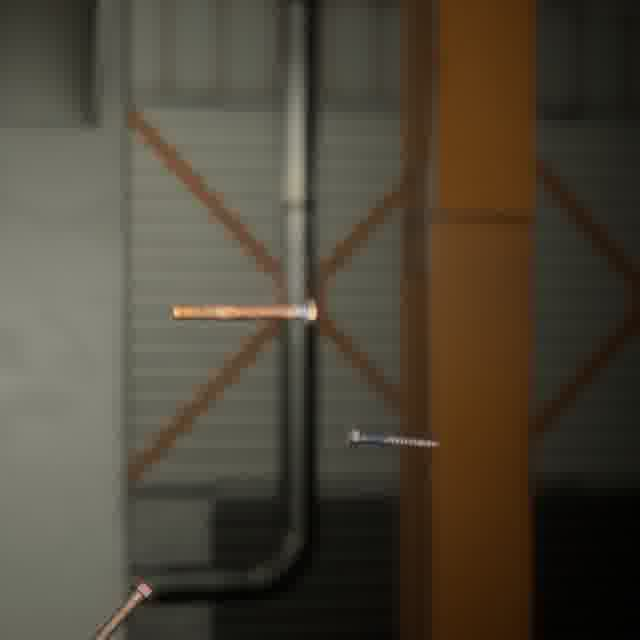bolt: (166, 294, 321, 330), (85, 574, 159, 640), (342, 421, 445, 452)
